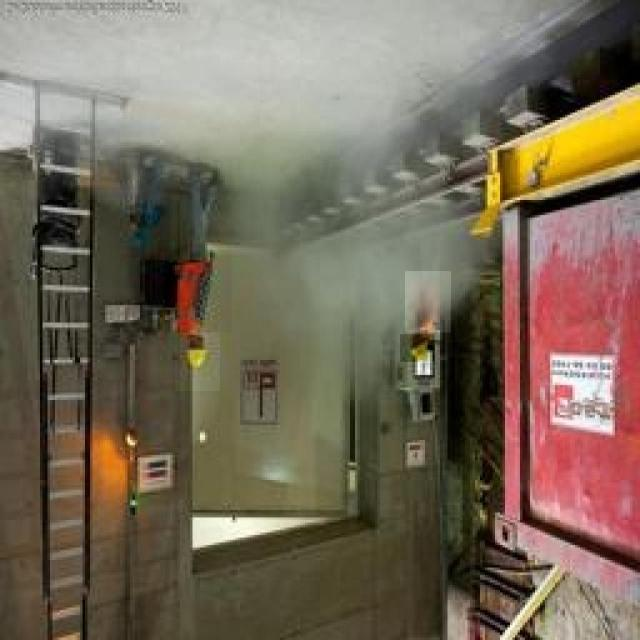Helmet: (175, 329, 220, 391), (400, 334, 434, 362)
Safety Vest: (164, 245, 232, 332), (405, 271, 451, 333)
